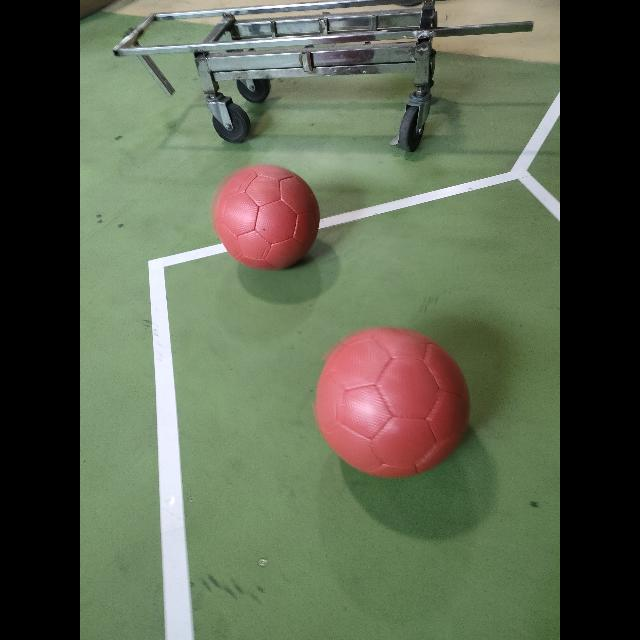R: (315, 327, 469, 477), (213, 164, 319, 270)
